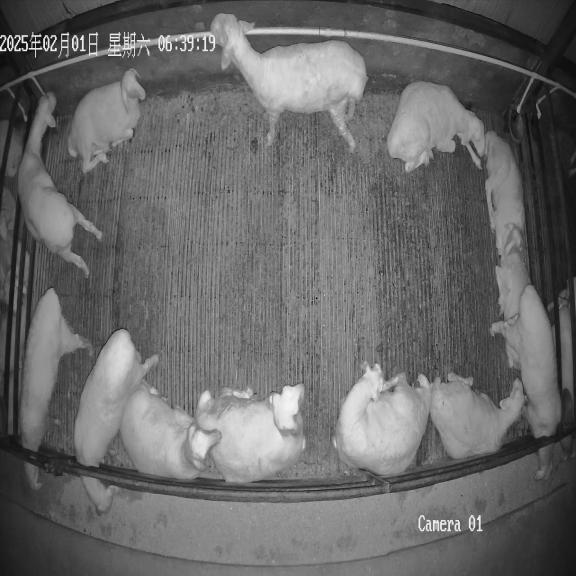drinking: (18, 93, 102, 277)
eating: (74, 328, 158, 514), (19, 288, 93, 490), (490, 285, 561, 479)
lying: (195, 383, 305, 483), (333, 364, 431, 476), (119, 379, 221, 479), (387, 82, 485, 172), (67, 68, 146, 173), (430, 372, 525, 459), (483, 131, 525, 260), (495, 245, 531, 375)
stand: (211, 14, 368, 152)
